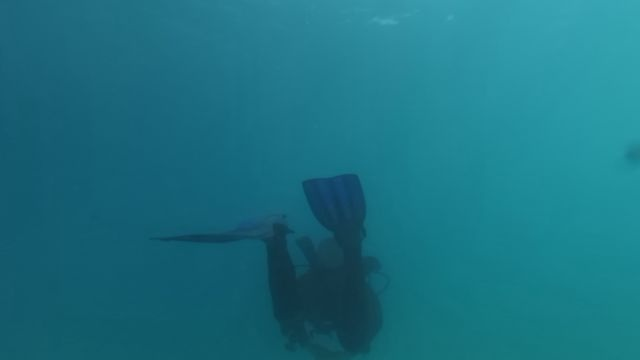Diver: (144, 150, 400, 359)
